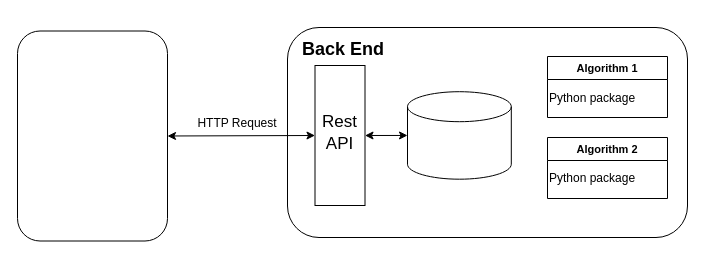
This 705x258 diagram has some shape labels left out. Here are the shapes that lost their labels. From the top down, the centre of each, then its label:
At (92,135): "Front End".
At (458,135): "Database".
